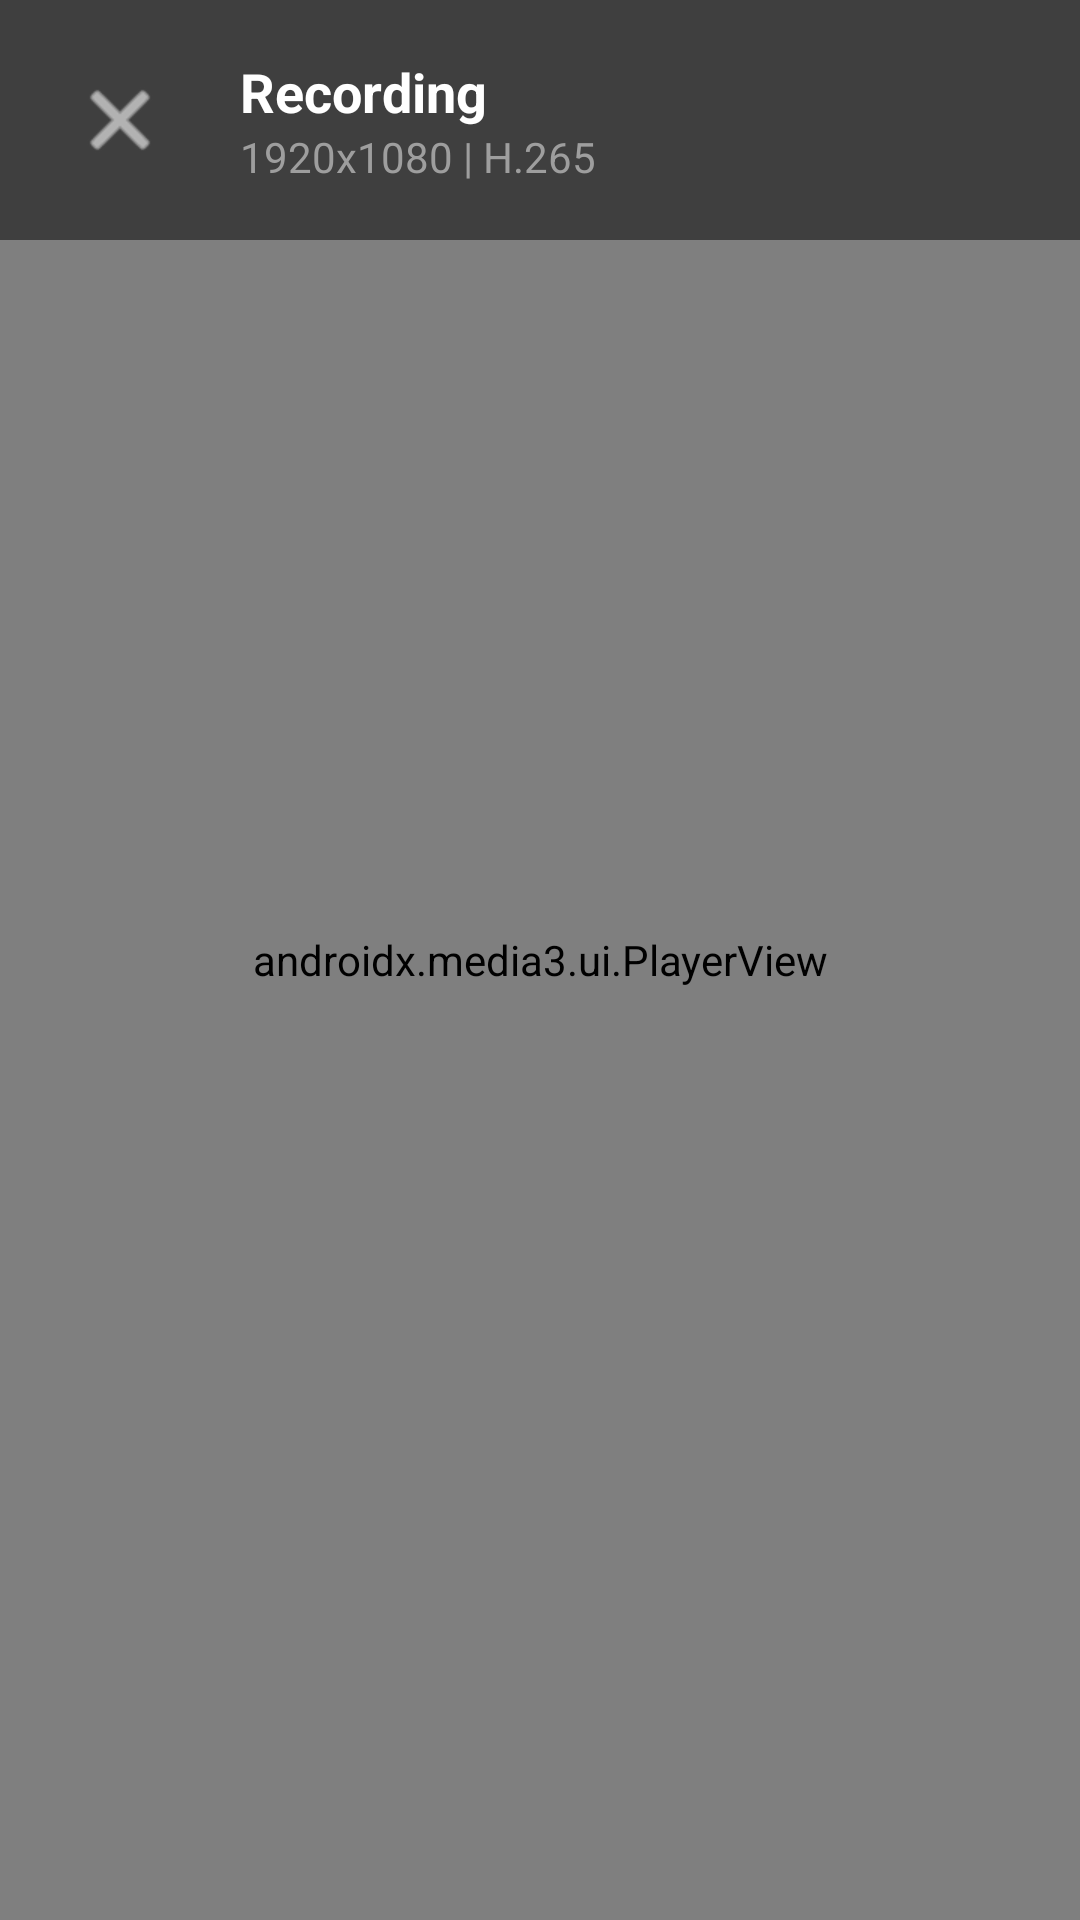

Where icons sit on this 1080w x 1920h app screen, as region(x1, y1, x2, y2):
Back: region(90, 90, 150, 150)
